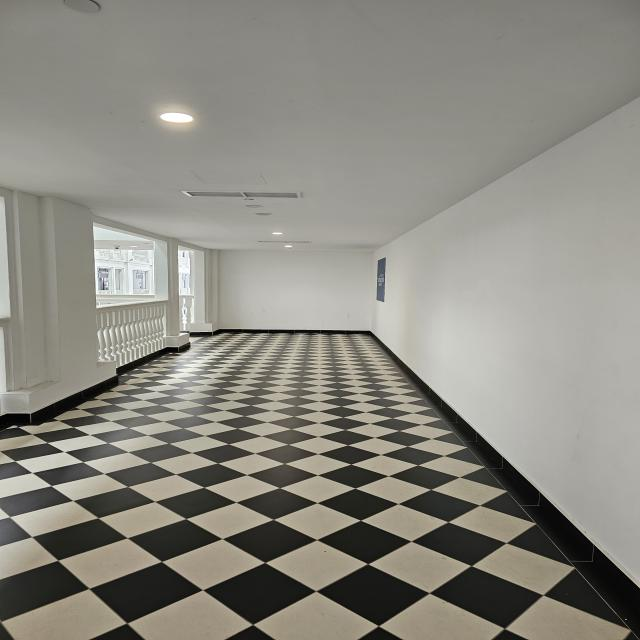footpath: (128, 376, 394, 640), (211, 334, 360, 377)
